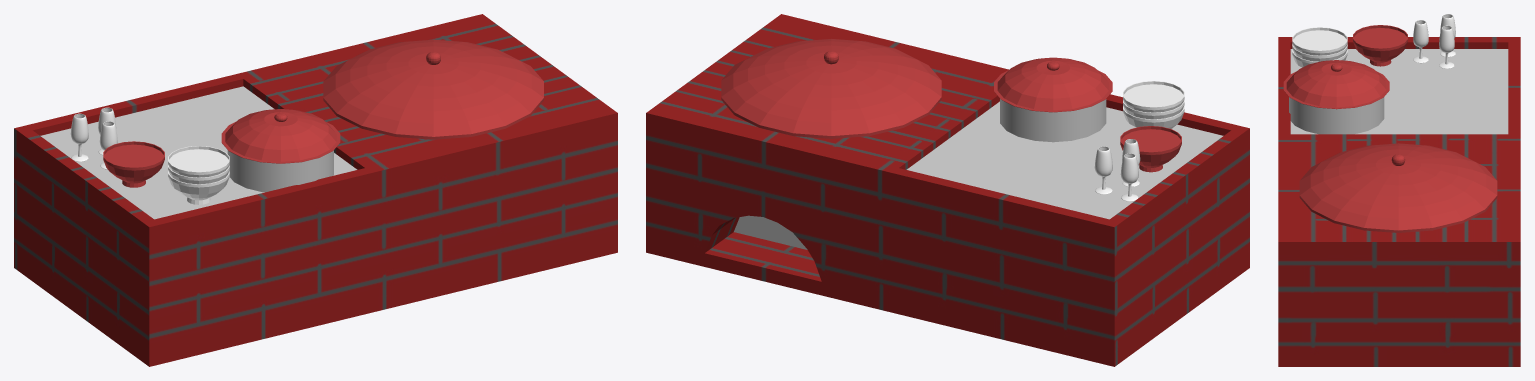
3 renders of one model, left to right at view 1: azimuth 30°, elevation 25°; view 2: azimuth 150°, elevation 25°; view 3: azimuth 270°, elevation 25°, orthographic. The views are drawn at different scales.
Parts seen in each view (by area): view 1: Box181, Cylinder057, Cylinder062, Cylinder061, Cylinder060, Cylinder058, Line006; view 2: Box181, Cylinder057, Cylinder062, Cylinder061, Cylinder060, Line002, Line006, Cylinder058; view 3: Box181, Cylinder057, Cylinder062, Cylinder061, Cylinder060, Line002, Line005, Cylinder059, Line006, Cylinder058.
Boxes of the visible parts, left/top/right/bottom form: Box181: left=14, top=14, right=617, bottom=366; Cylinder057: left=323, top=39, right=543, bottom=139; Cylinder062: left=221, top=109, right=340, bottom=192; Cylinder061: left=103, top=141, right=164, bottom=187; Cylinder060: left=168, top=146, right=229, bottom=177; Cylinder058: left=168, top=170, right=229, bottom=204; Line006: left=70, top=113, right=88, bottom=161; Box181: left=646, top=14, right=1249, bottom=366; Cylinder057: left=721, top=38, right=941, bottom=138; Cylinder062: left=994, top=57, right=1112, bottom=142; Cylinder061: left=1120, top=126, right=1181, bottom=172; Cylinder060: left=1123, top=81, right=1184, bottom=112; Line002: left=1094, top=146, right=1112, bottom=194; Line006: left=1120, top=153, right=1138, bottom=201; Cylinder058: left=1123, top=105, right=1184, bottom=128; Box181: left=1278, top=37, right=1520, bottom=366; Cylinder057: left=1299, top=143, right=1497, bottom=232; Cylinder062: left=1283, top=60, right=1389, bottom=134; Cylinder061: left=1353, top=25, right=1407, bottom=66; Cylinder060: left=1292, top=27, right=1347, bottom=55; Line002: left=1439, top=25, right=1454, bottom=68; Line005: left=1413, top=20, right=1428, bottom=63; Cylinder059: left=1292, top=44, right=1347, bottom=61; Line006: left=1440, top=14, right=1455, bottom=56; Cylinder058: left=1292, top=49, right=1347, bottom=67.
Bounding box in the file's own units: 200 × 77.08 × 100.
1 material, 1 textured.
